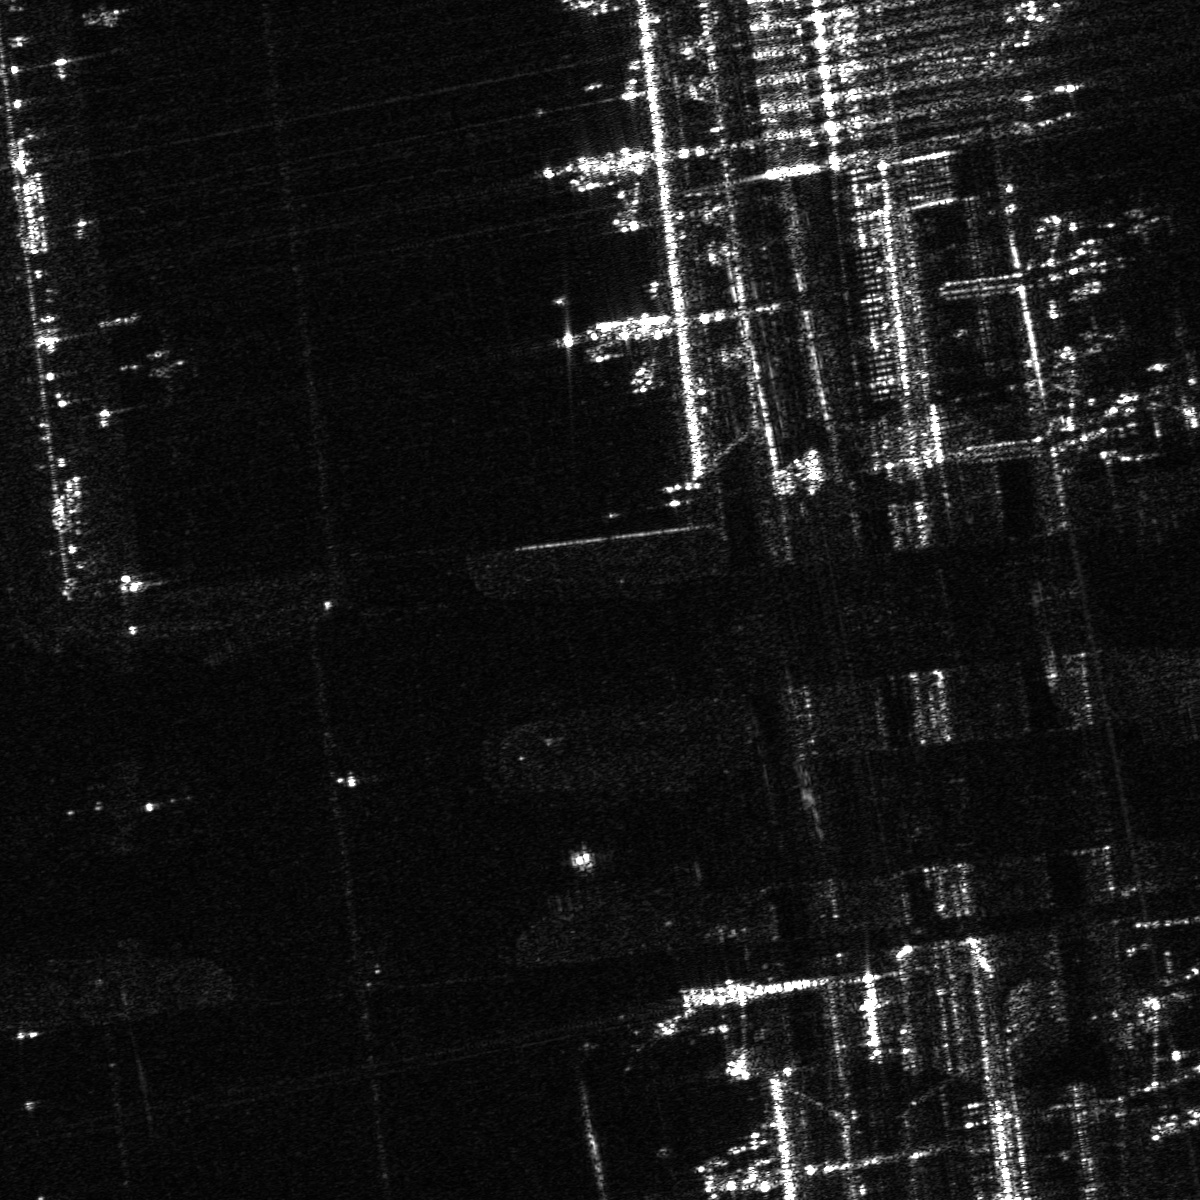Boeing737: (1143, 377, 1199, 437), (1152, 949, 1199, 1005)
